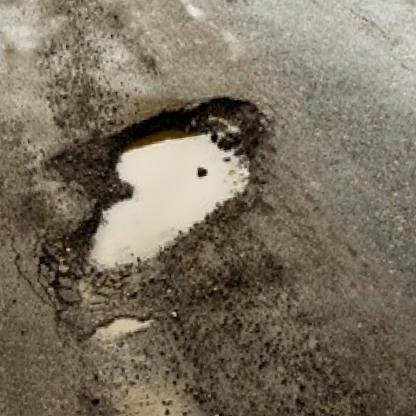pothole: (44, 89, 290, 288)
